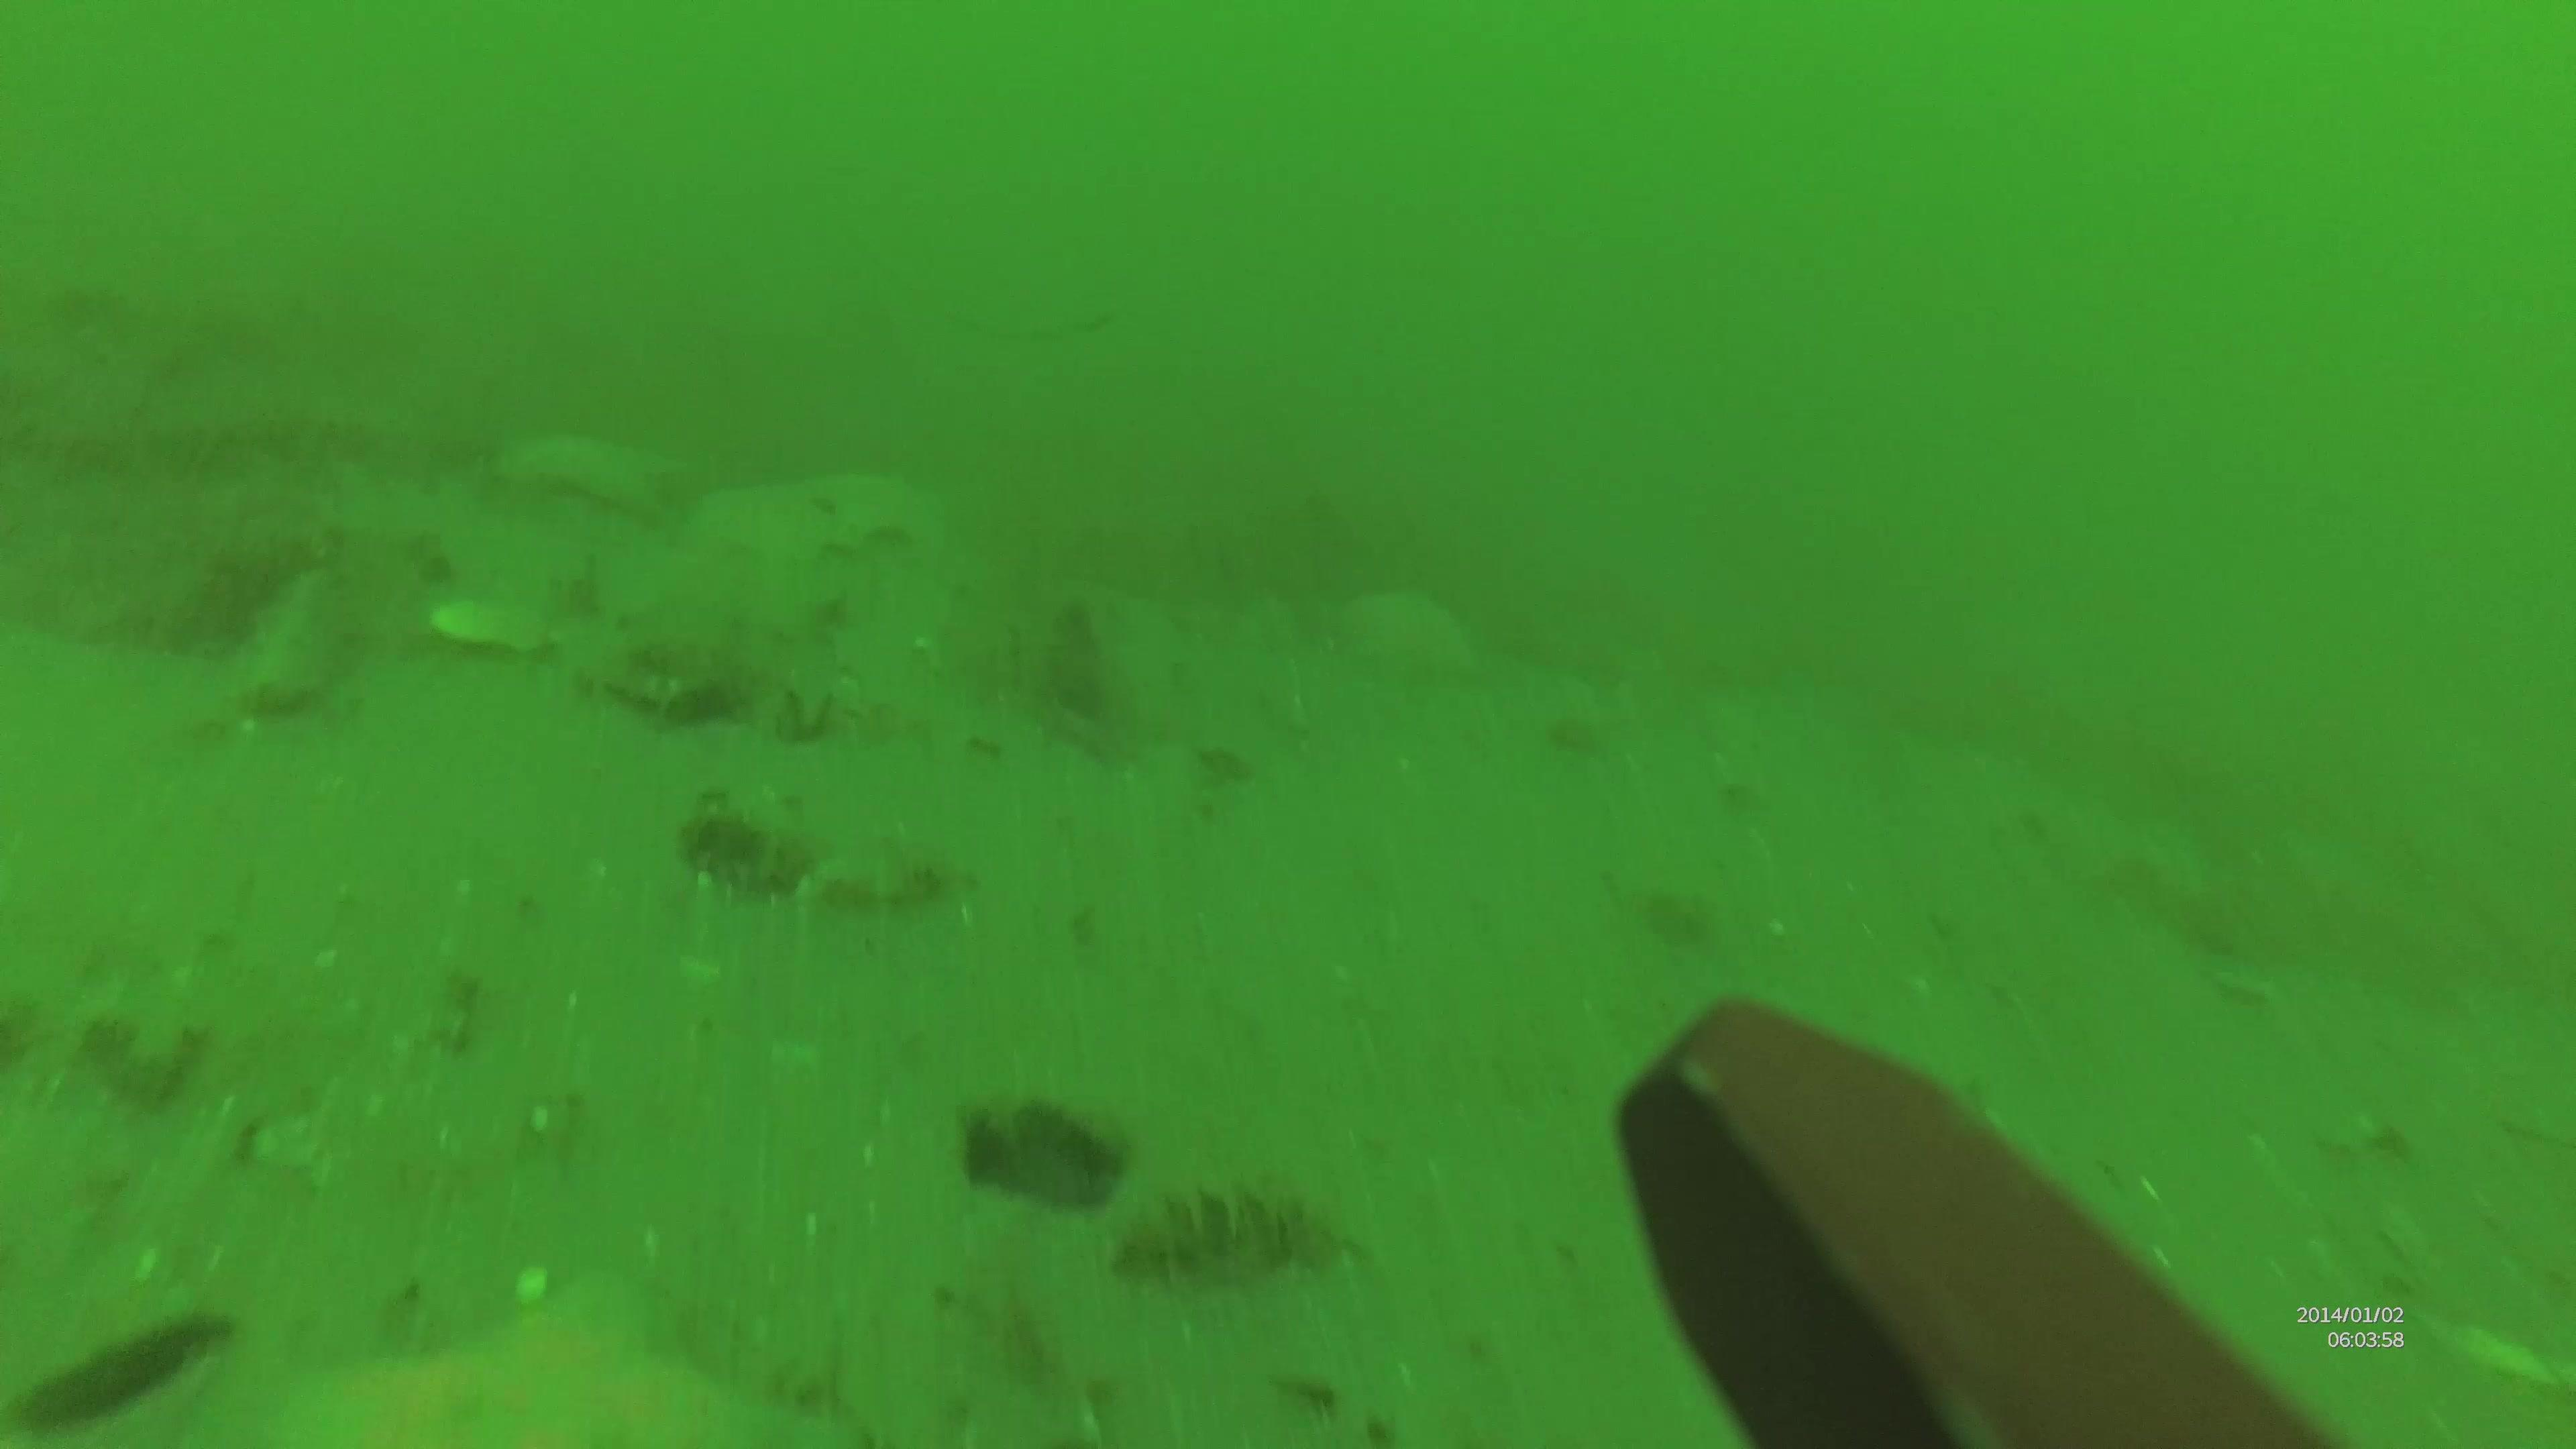scallop: (432, 587, 550, 660)
starfish: (290, 1254, 828, 1449), (490, 419, 683, 541), (695, 488, 856, 579), (819, 462, 931, 556)
